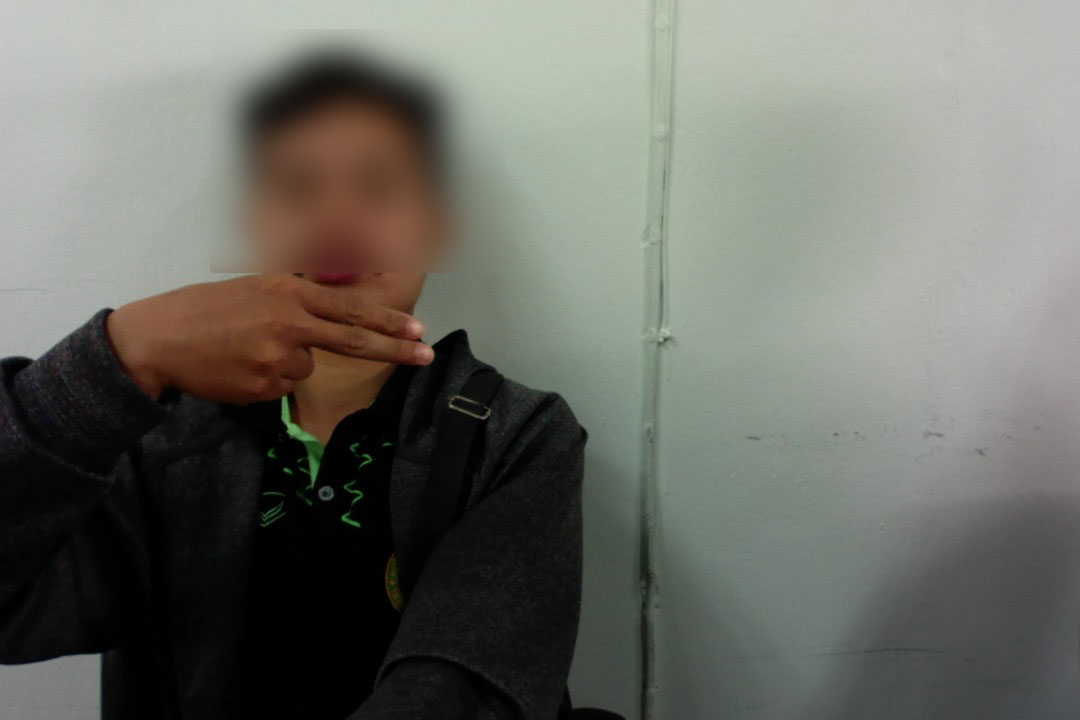hor: (111, 270, 438, 408)
